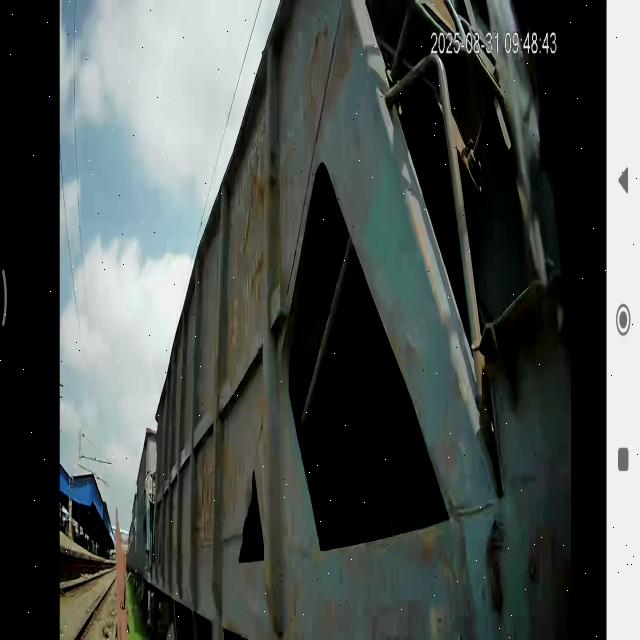coach: (150, 4, 384, 640)
